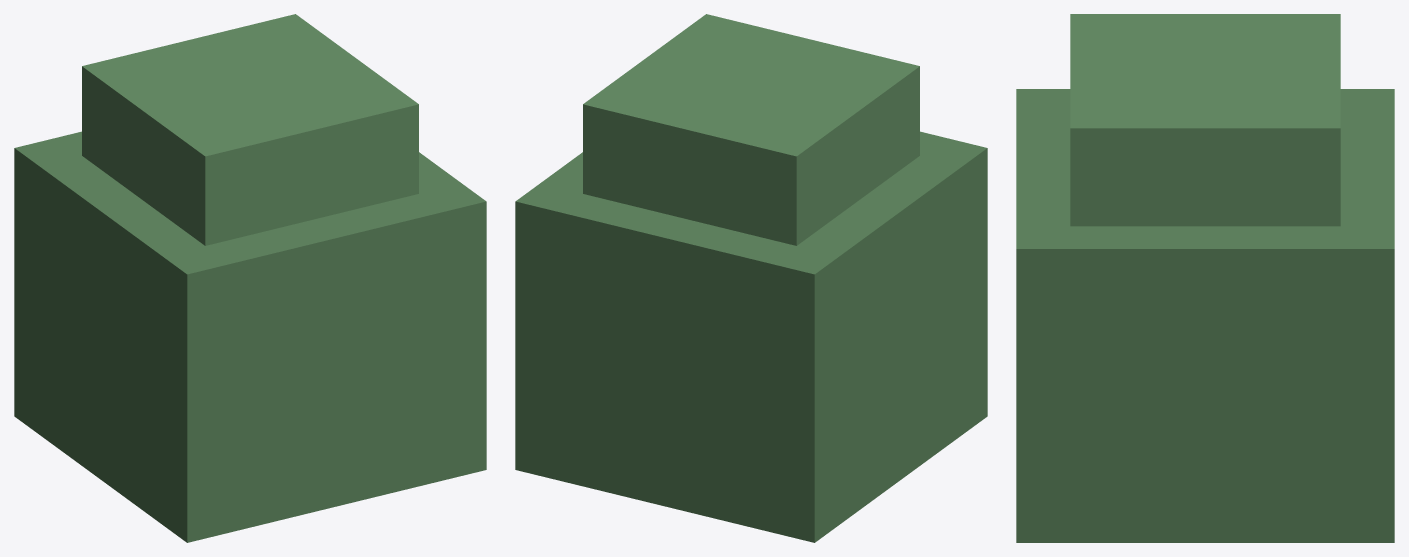
Rendered from seto_silvestre_01.glb.
3 views of the same model, side by side, from view 1: azimuth 30°, elevation 25°; view 2: azimuth 150°, elevation 25°; view 3: azimuth 270°, elevation 25° (orthographic). The views are drawn at different scales.
Parts seen in each view (by area): view 1: seto_silvestre_01; view 2: seto_silvestre_01; view 3: seto_silvestre_01.
Boxes of the visible parts, x1,y1,x2,y2 form: seto_silvestre_01: [14, 14, 486, 542]; seto_silvestre_01: [515, 14, 987, 542]; seto_silvestre_01: [1016, 14, 1394, 542].
Size of the model in its own units: 0.7 by 0.8 by 0.7.
